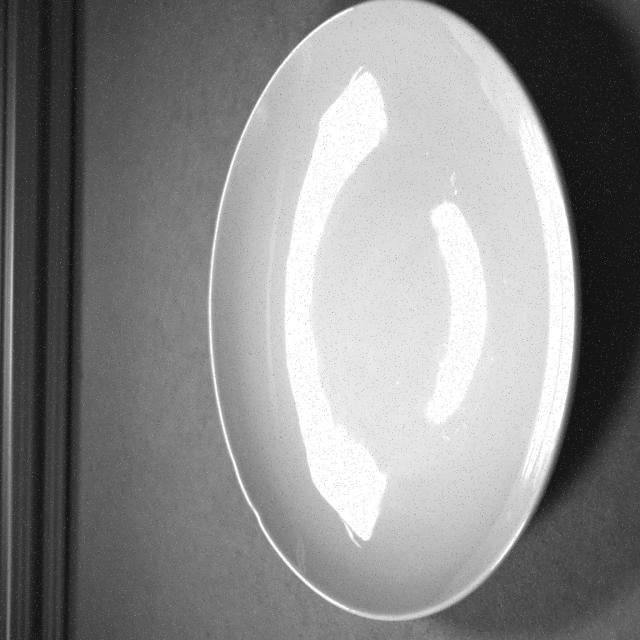plate: (193, 3, 599, 638)
